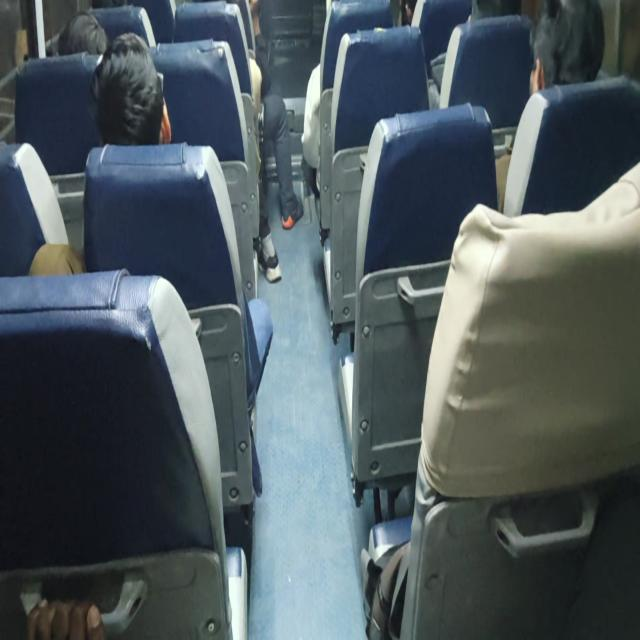person: (516, 0, 608, 97), (104, 45, 176, 144), (56, 0, 118, 61)
